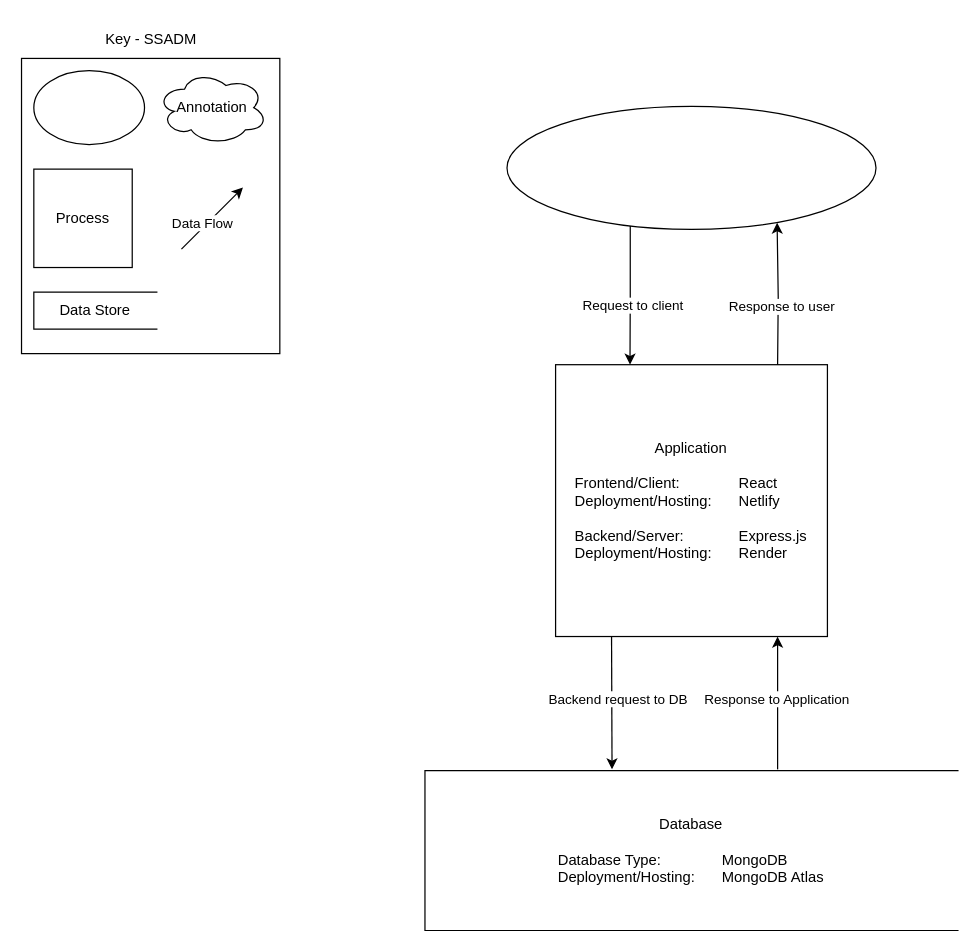
This 980x952 diagram has some shape labels left out. Each missing label, with the centre of its shape:
"Entity" belongs at pixel 89 107.
"User" belongs at pixel 691 167.
